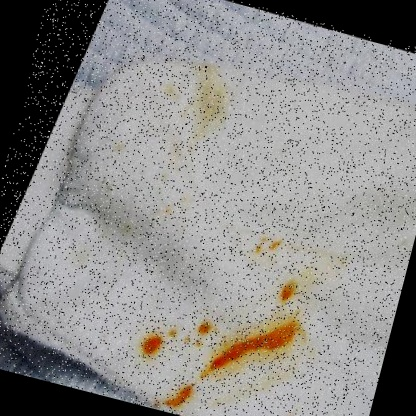kimchi: (194, 297, 312, 401), (164, 57, 240, 180), (125, 186, 198, 252), (130, 316, 183, 373), (150, 373, 202, 416), (242, 226, 290, 263), (265, 274, 309, 311), (188, 316, 216, 351), (159, 81, 182, 101), (108, 137, 129, 157)
